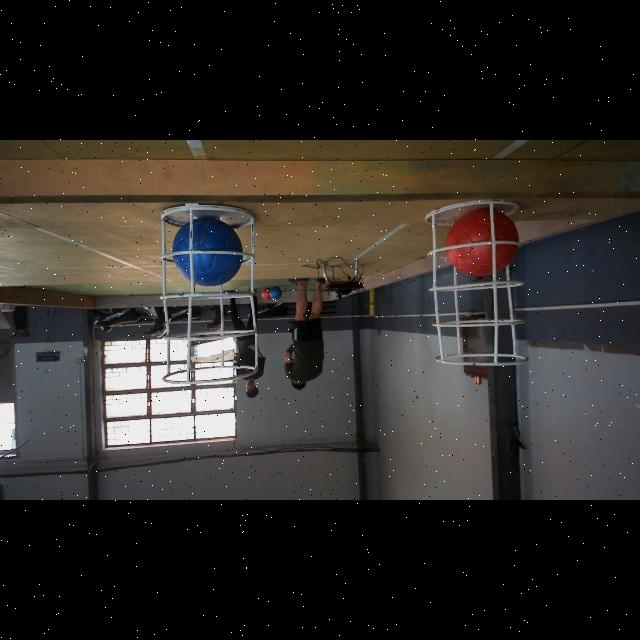B: (172, 216, 244, 286)
R: (447, 208, 519, 276)
